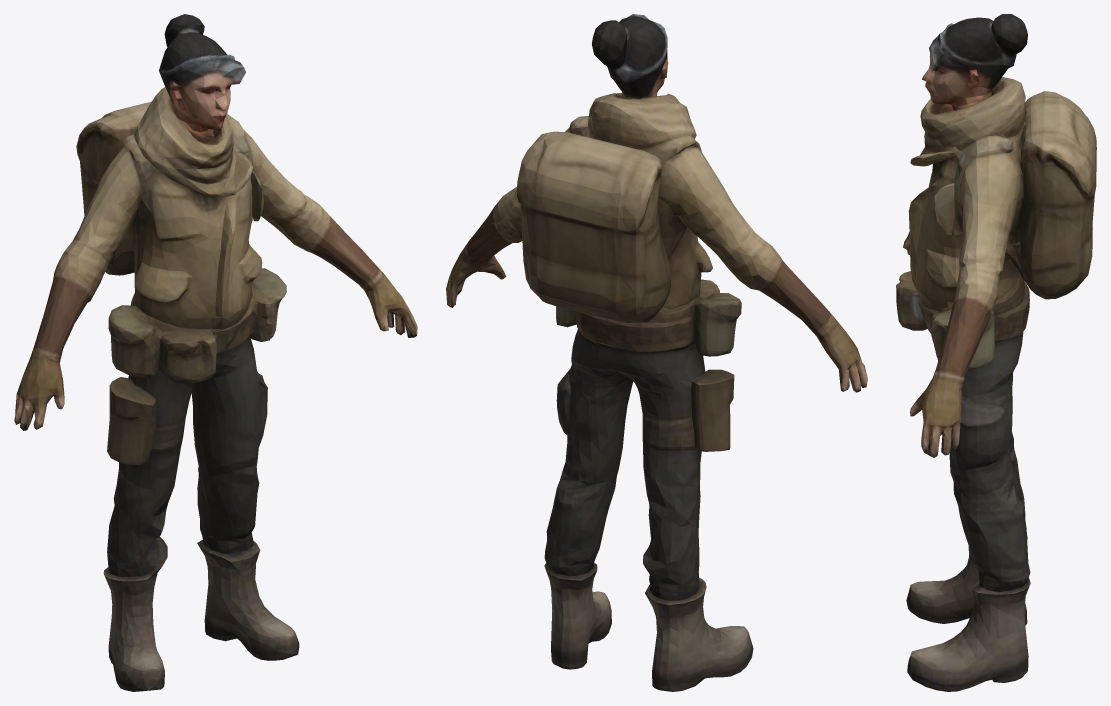
The model's file is bandit-femme.glb.
3 renders of one model, left to right at view 1: azimuth 30°, elevation 25°; view 2: azimuth 150°, elevation 25°; view 3: azimuth 270°, elevation 25°, orthographic. The views are drawn at different scales.
Parts seen in each view (by area): view 1: world; view 2: world; view 3: world.
Part boxes in pixels (bbox=[...]): world: bbox=[14, 14, 417, 691]; world: bbox=[446, 14, 867, 691]; world: bbox=[896, 14, 1096, 691].
Size of the model in its own units: 0.6647 by 0.999 by 0.2846.
1 material, 1 textured.
